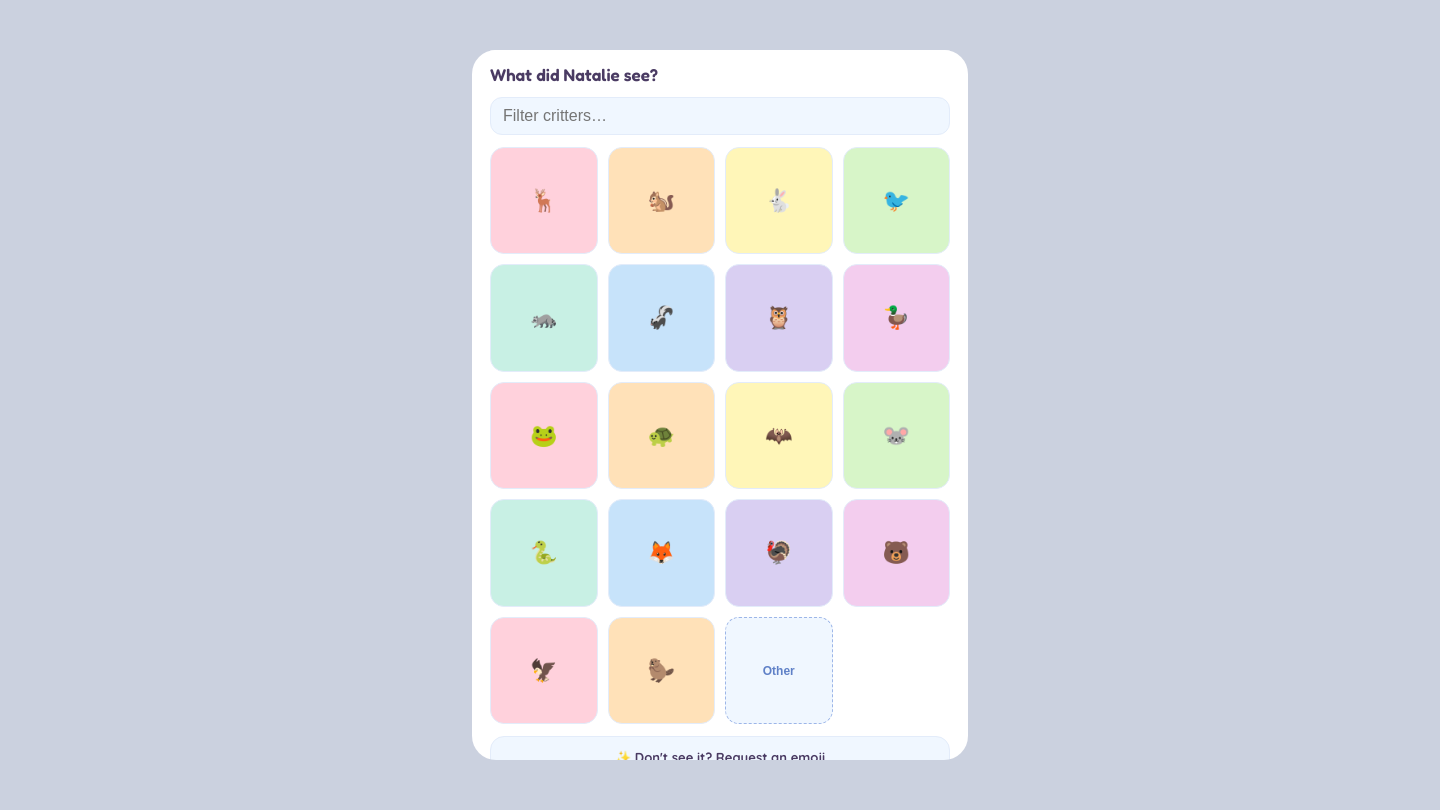
Test case: LogSightingFlow › picking a curated critter advances to details with the name pre-filled and today as date
Click the button named "fox": (661, 553) x1=608 y1=499 x2=715 y2=607
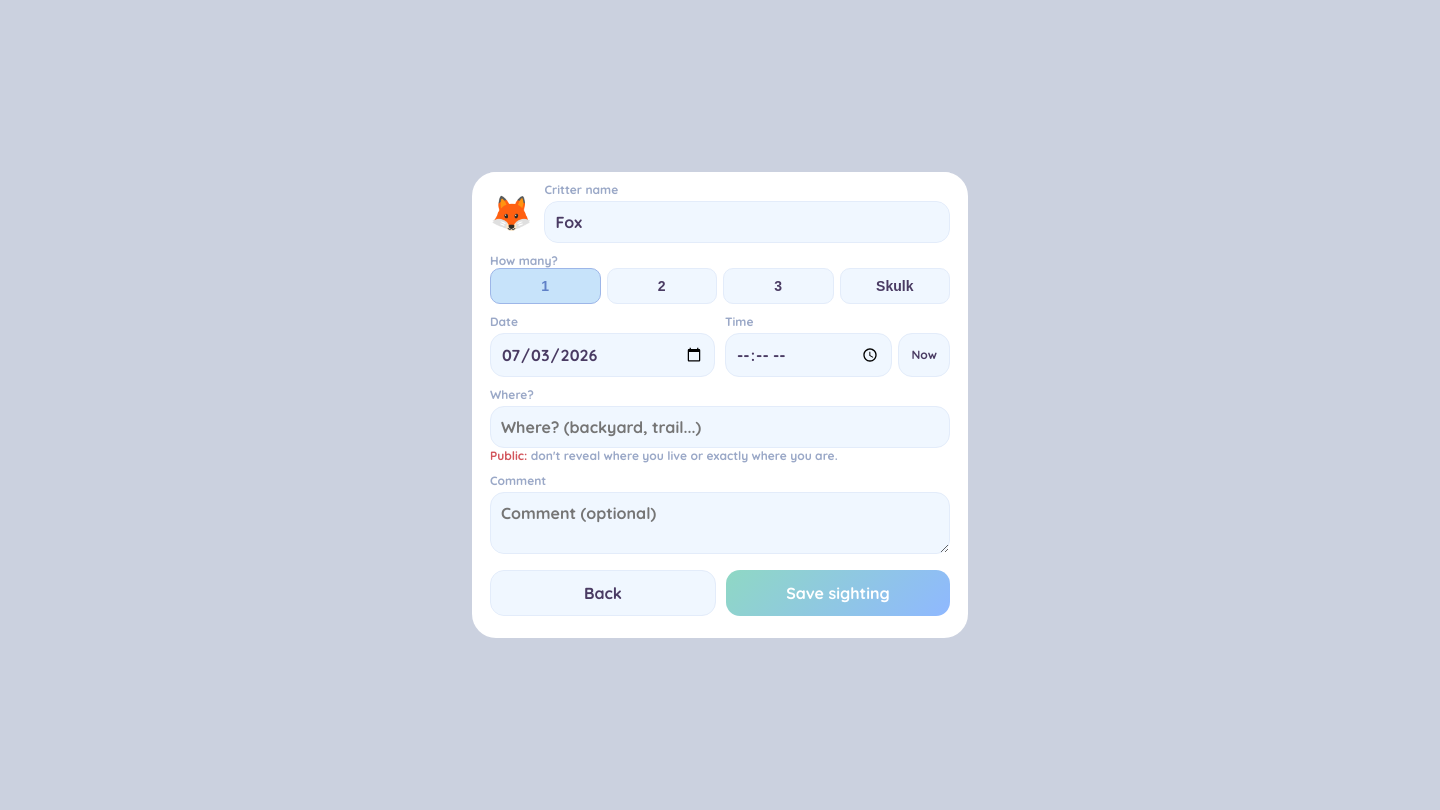
Result: the field labelled "Critter name" holds "Fox" at x1=544 y1=201 x2=950 y2=243
Result: the date field labelled "Date" holds "2026-07-03" at x1=490 y1=333 x2=715 y2=377
